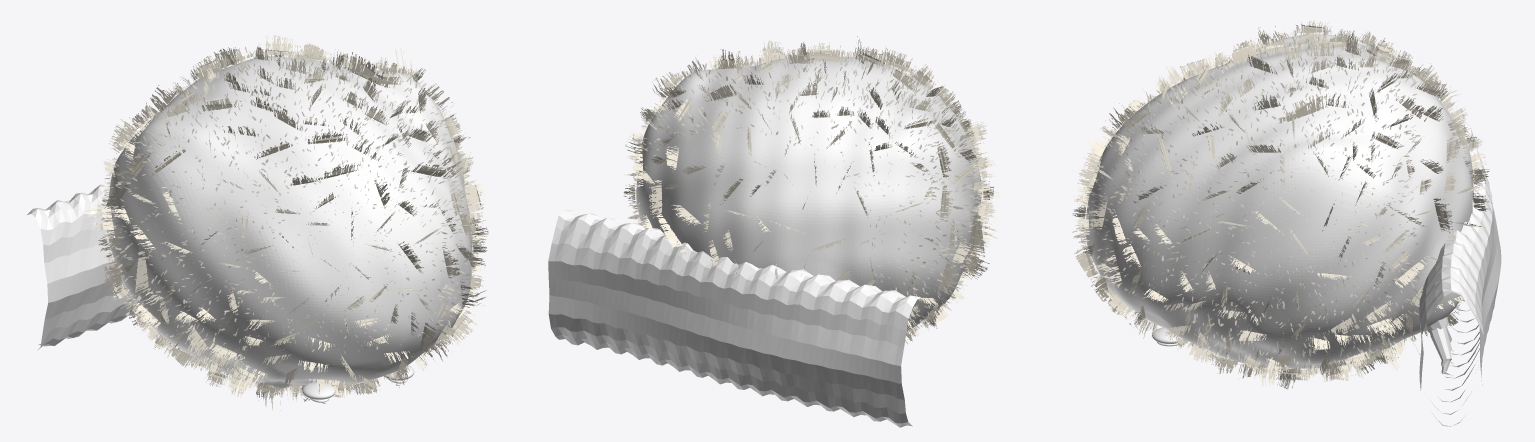
The model's file is owl172_run93_combined_TOOL_PROBE_ART_REJECTED.glb.
3 renders of one model, left to right at view 1: azimuth 30°, elevation 25°; view 2: azimuth 150°, elevation 25°; view 3: azimuth 270°, elevation 25°, orthographic. The views are drawn at different scales.
Parts seen in each view (by area): view 1: baseline_ORGANIC_CONNECTED_HEAD_BODY_HEART_RELIEF, groomlab_owl172_run93_low, baseline_TEMPORARY_BARK_SUPPORT_RESEARCH_ONLY, baseline_soft_alpha_mesoptile_research_groom; view 2: baseline_ORGANIC_CONNECTED_HEAD_BODY_HEART_RELIEF, baseline_TEMPORARY_BARK_SUPPORT_RESEARCH_ONLY, groomlab_owl172_run93_low, baseline_soft_alpha_mesoptile_research_groom; view 3: baseline_ORGANIC_CONNECTED_HEAD_BODY_HEART_RELIEF, groomlab_owl172_run93_low, baseline_soft_alpha_mesoptile_research_groom, baseline_TEMPORARY_BARK_SUPPORT_RESEARCH_ONLY, baseline_toe_1_2.
Part boxes in pixels (bbox=[...]): baseline_ORGANIC_CONNECTED_HEAD_BODY_HEART_RELIEF: bbox=[106, 56, 472, 388]; groomlab_owl172_run93_low: bbox=[81, 35, 488, 410]; baseline_TEMPORARY_BARK_SUPPORT_RESEARCH_ONLY: bbox=[27, 184, 140, 350]; baseline_soft_alpha_mesoptile_research_groom: bbox=[100, 49, 478, 392]; baseline_ORGANIC_CONNECTED_HEAD_BODY_HEART_RELIEF: bbox=[636, 55, 981, 330]; baseline_TEMPORARY_BARK_SUPPORT_RESEARCH_ONLY: bbox=[548, 209, 920, 427]; groomlab_owl172_run93_low: bbox=[623, 36, 999, 343]; baseline_soft_alpha_mesoptile_research_groom: bbox=[630, 49, 986, 333]; baseline_ORGANIC_CONNECTED_HEAD_BODY_HEART_RELIEF: bbox=[1085, 34, 1473, 368]; groomlab_owl172_run93_low: bbox=[1072, 20, 1491, 389]; baseline_soft_alpha_mesoptile_research_groom: bbox=[1081, 29, 1419, 375]; baseline_TEMPORARY_BARK_SUPPORT_RESEARCH_ONLY: bbox=[1419, 114, 1501, 426]; baseline_toe_1_2: bbox=[1430, 327, 1451, 366].
Size of the model in its own units: 1.32 by 1.2 by 1.41.
Materials: 3 (2 with a texture image).
